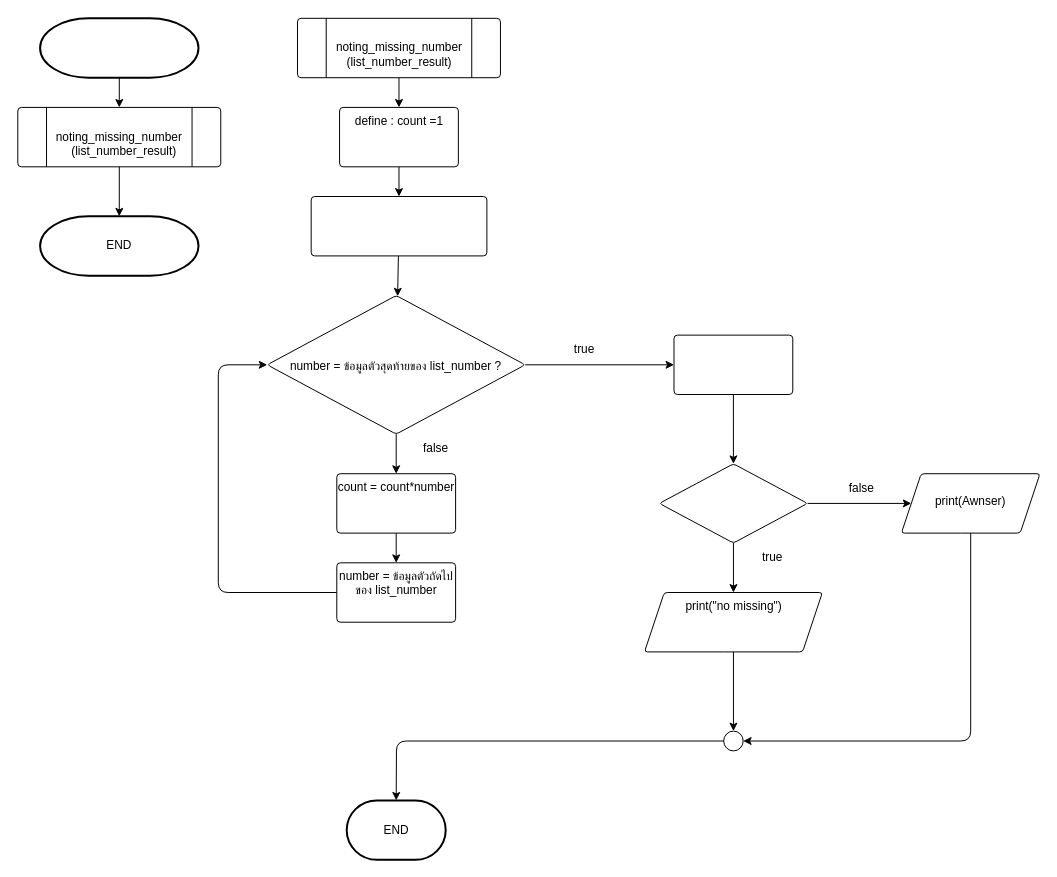
This 1057x877 diagram has some shape labels left out. The shapes that lost their labels are listed below. From the top down, each one's centre as x and y in pixels, then its label:
(x=119, y=47): start
(x=398, y=226): define: number =ข้อมูลตัวเเรกของ list_number
(x=733, y=364): define Awnser = [result / count]
(x=733, y=503): Awnser == 1?
